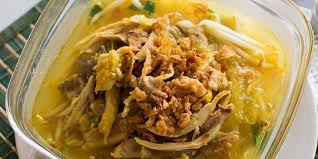soto: (22, 1, 294, 159)
